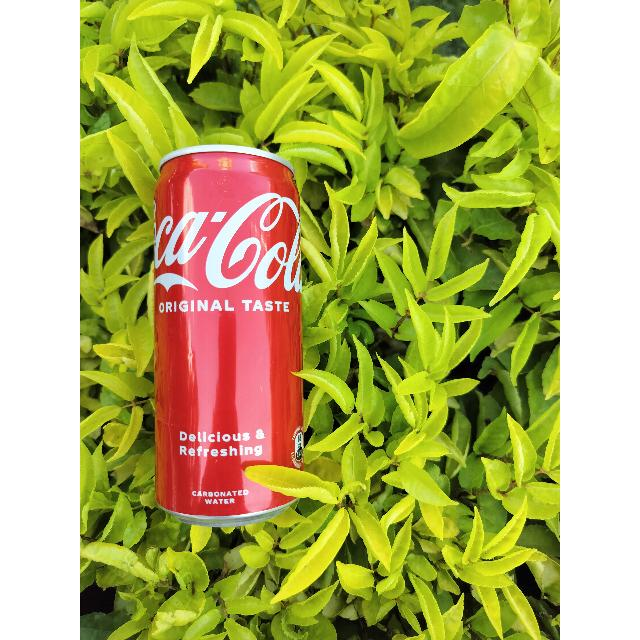Coca Cola: (138, 144, 314, 536)
